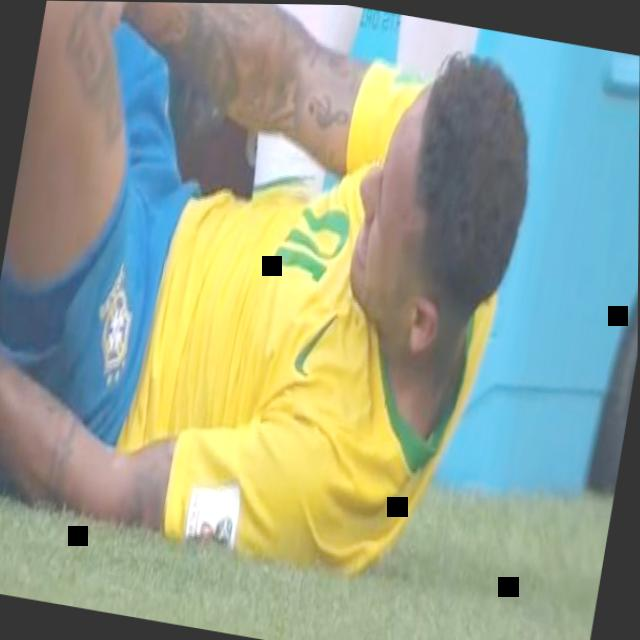Fall-Detected: (0, 0, 547, 604)
